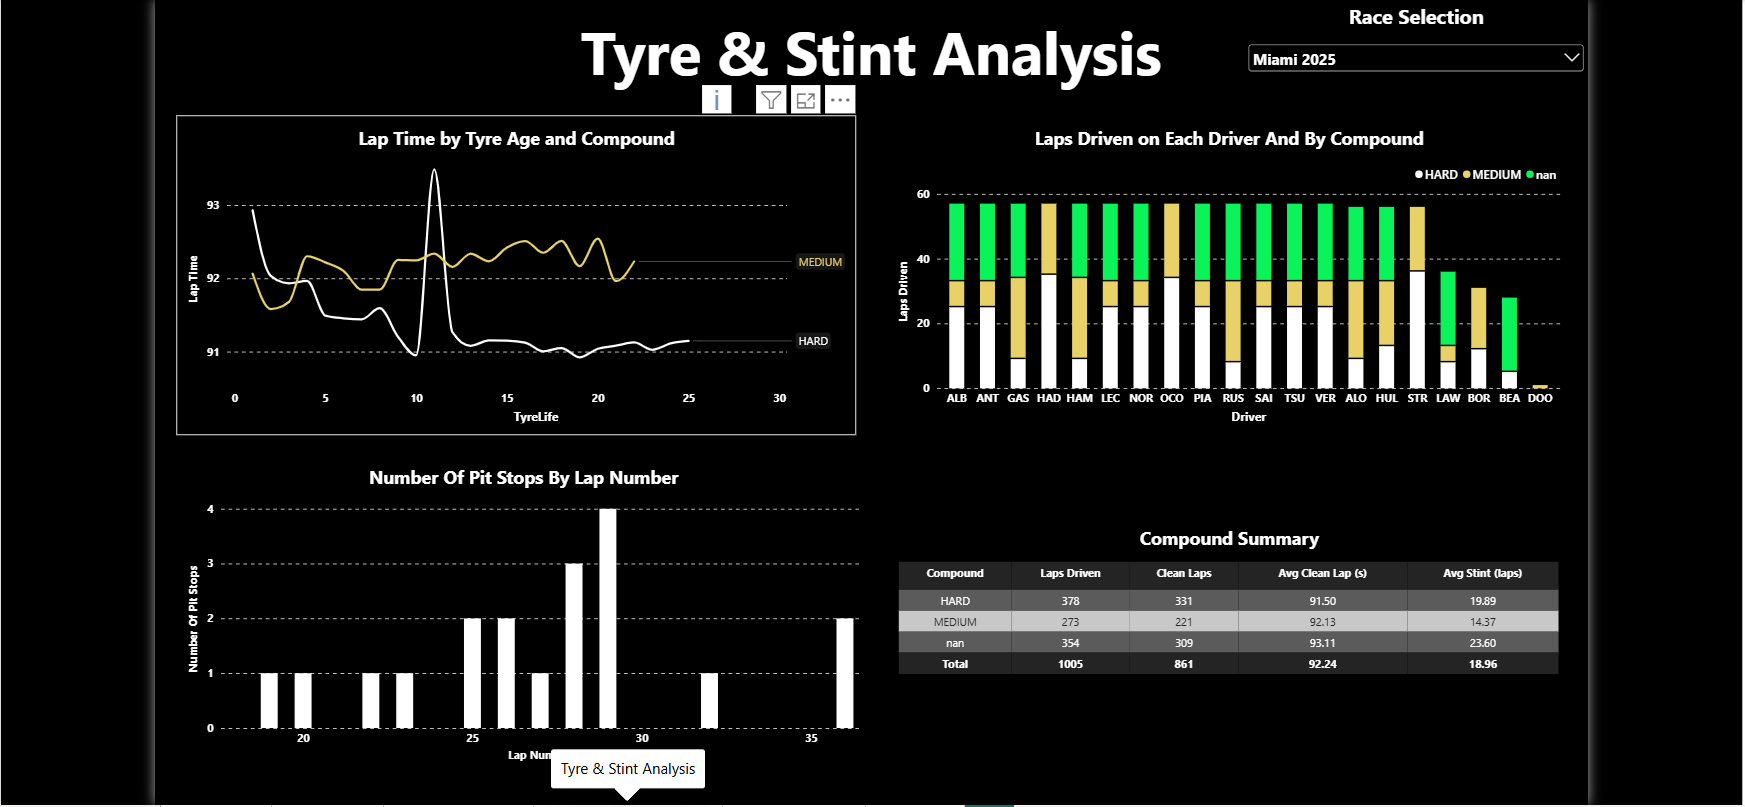

What the dashboard file says about the page in this screenshot:
{"tool":"powerbi","page":{"name":"Tyre & Stint Analysis","canvas":[1920,1080],"ordinal":3},"visuals":[{"type":"lineChart","title":"Lap Time by Tyre Age and Compound","fields":{"Category":["public f1_all_sessions.TyreLife"],"Series":["public f1_all_sessions.Compound"],"Y":["public f1_all_sessions.Avg Clean Lap (min 5 laps)"]},"box":[27.9,155.2,912.2,429.1],"z":0},{"type":"columnChart","title":"Laps Driven on Each Driver And By Compound","fields":{"Category":["public f1_all_sessions.Driver"],"Series":["public f1_all_sessions.Compound"],"Y":["public f1_all_sessions.Laps Driven"]},"box":[980.2,155.2,919.2,429.1],"z":1},{"type":"clusteredColumnChart","title":"Number Of Pit Stops By Lap Number","fields":{"Category":["public f1_all_sessions.LapNumber"],"Y":["public f1_all_sessions.Pit Stops"]},"box":[28.5,609.7,931.3,428.8],"z":2},{"type":"tableEx","title":"Compound Summary","fields":{"Values":["public f1_all_sessions.Compound","public f1_all_sessions.Laps Driven","public f1_all_sessions.Accurate Laps","public f1_all_sessions.Average Lap Time","public f1_all_sessions.Average Stint Length"]},"box":[979.8,691.8,919.5,266.3],"z":3},{"type":"textbox","box":[564.5,15.1,790.6,107.2],"z":4},{"type":"slicer","title":"Race Selection","fields":{"Values":["public f1_all_sessions.Race"]},"box":[1460.6,5,458.9,130.6],"z":5}]}

Visuals, with their boxes on the page's 1920x1080 design canvas (x1, y1, x2, y2). These are canvas units, not pixel positions in the 1745x807 screenshot, which may show the page scaled, cropped or inside an application window:
"Lap Time by Tyre Age and Compound" lineChart: pyautogui.locateOnScreen(28, 155, 940, 584)
"Laps Driven on Each Driver And By Compound" columnChart: pyautogui.locateOnScreen(980, 155, 1899, 584)
"Number Of Pit Stops By Lap Number" clusteredColumnChart: pyautogui.locateOnScreen(28, 610, 960, 1038)
"Compound Summary" tableEx: pyautogui.locateOnScreen(980, 692, 1899, 958)
textbox: pyautogui.locateOnScreen(564, 15, 1355, 122)
"Race Selection" slicer: pyautogui.locateOnScreen(1461, 5, 1920, 136)
